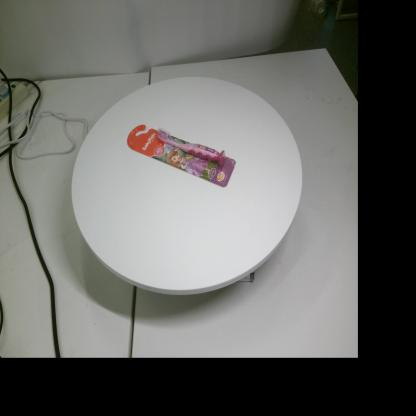Personal Hygiene: (127, 125, 236, 187)
